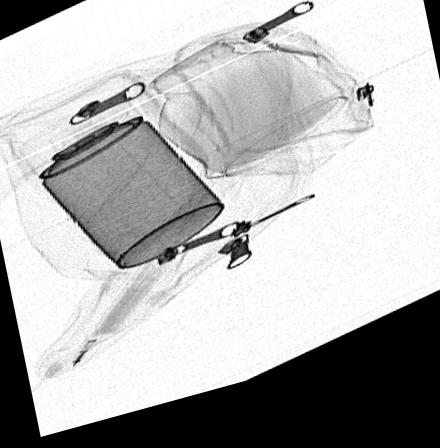Sprayer: (20, 97, 224, 275)
